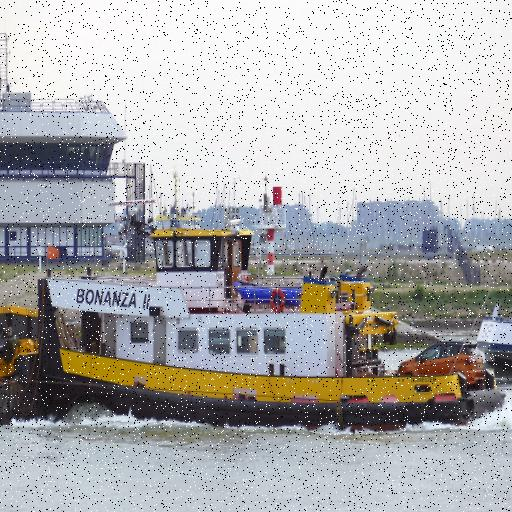tugboat: (34, 214, 509, 444)
